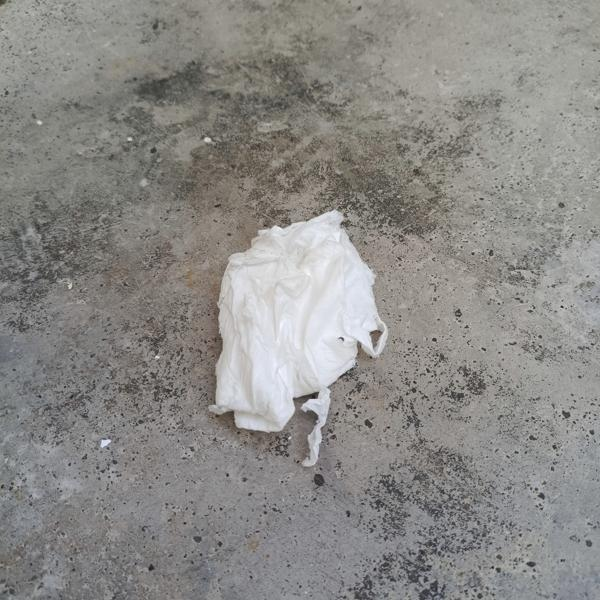Organik: (192, 205, 407, 522)
